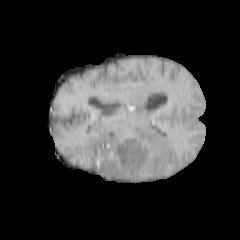glioma: (90, 121, 176, 180)
